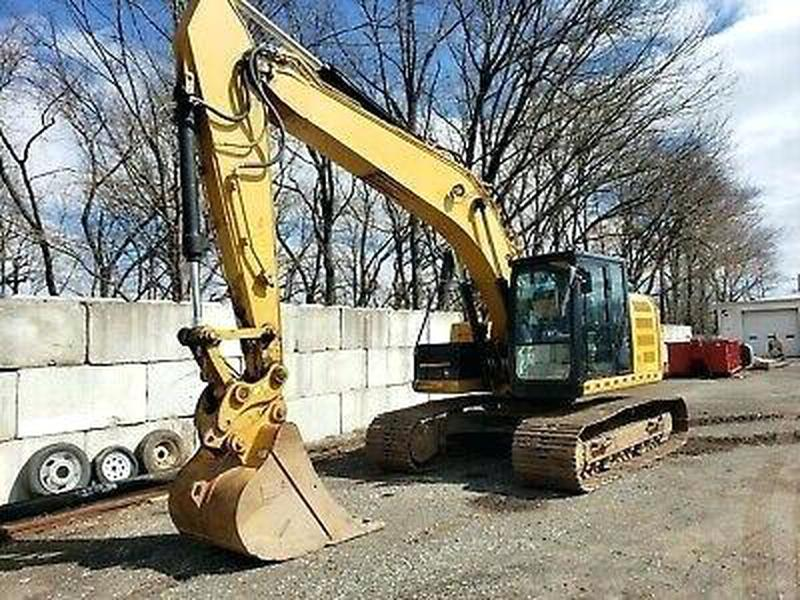shovel: (154, 1, 692, 568)
